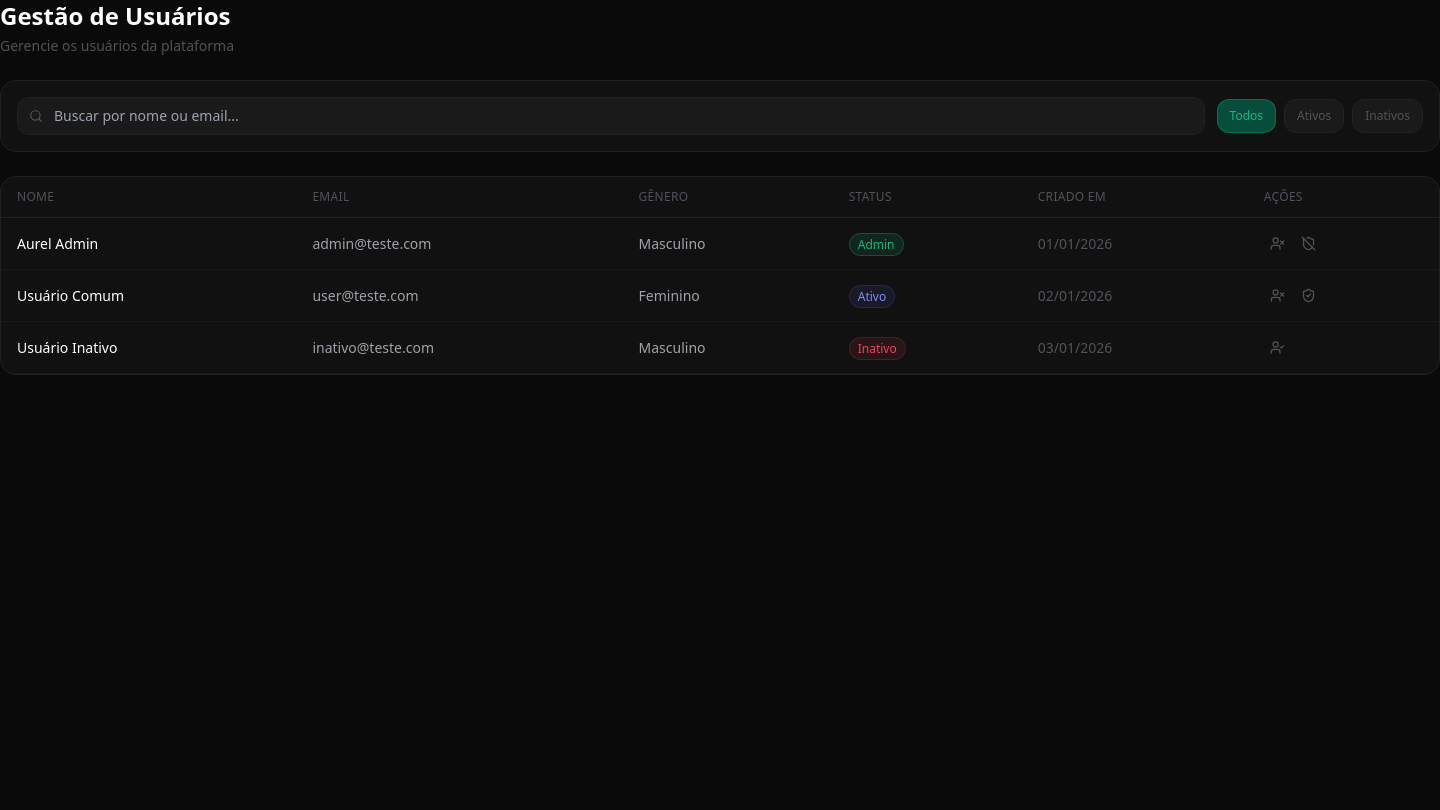
Scenario: AdminUsersPage › deve abrir modal de confirmação ao clicar em promover
Click the button titled "Promover a Admin" at (1308,296), box [1295,282,1322,309]
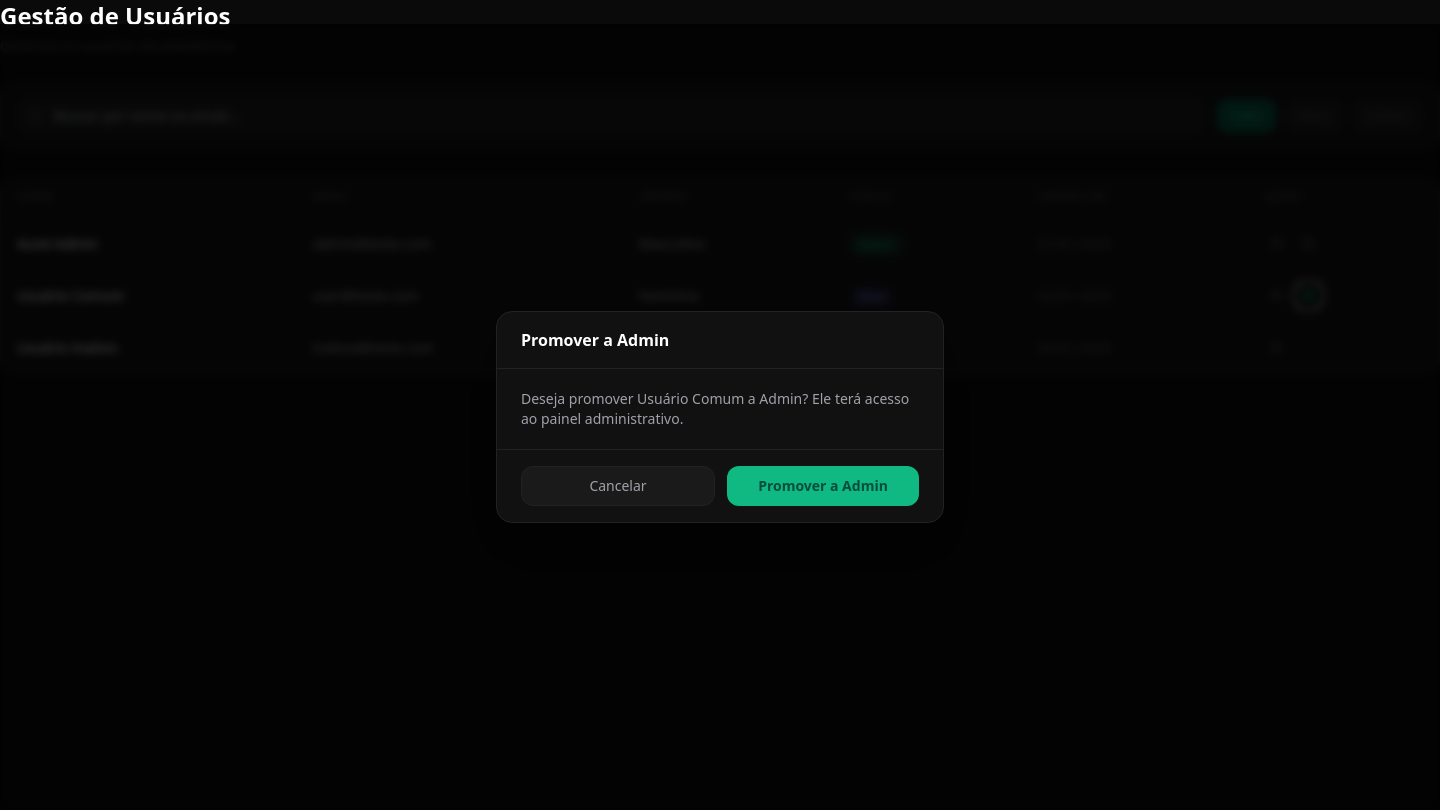
expect the heading "Promover a Admin" is shown: met, box [521,329,669,351]
